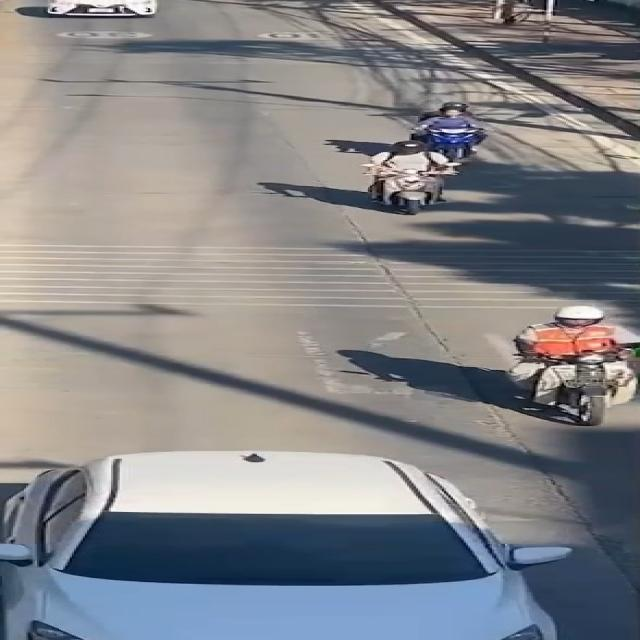car: (0, 436, 588, 640)
